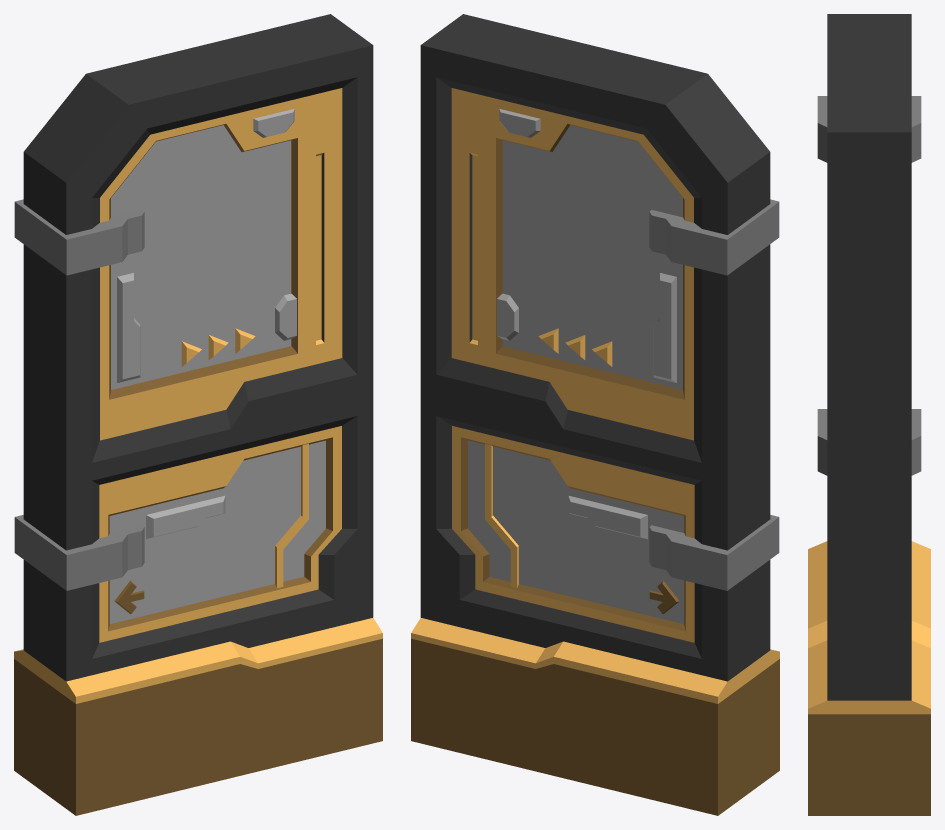
Rendered from door_double_l.obj.
The picture shows the model from 3 angles, left to right: view 1: azimuth 30°, elevation 25°; view 2: azimuth 150°, elevation 25°; view 3: azimuth 270°, elevation 25°; orthographic projection.
Parts seen in each view (by area): view 1: door_double_l; view 2: door_double_l; view 3: door_double_l.
Part boxes in pixels (box(x1,y1,x2,y2)): door_double_l: box(14, 14, 382, 815); door_double_l: box(411, 14, 779, 815); door_double_l: box(808, 14, 930, 815).
Bounding box in the file's own units: 1.32 × 2.79 × 0.4542.
